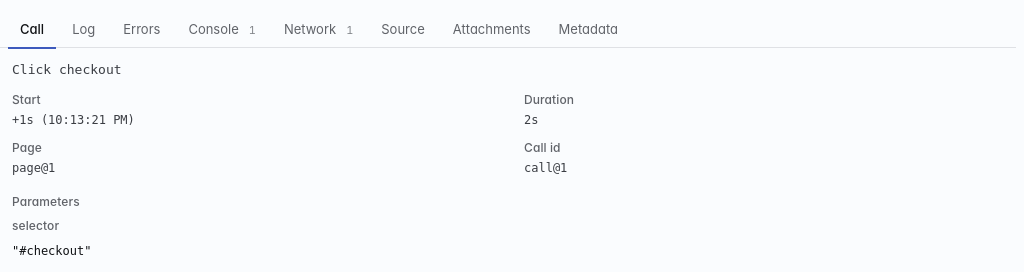
Scenario: DetailTabs — Log tab timeline selection › shows only log entries inside the selection window
Click the tab "Log": (84, 30) [60, 12, 107, 48]
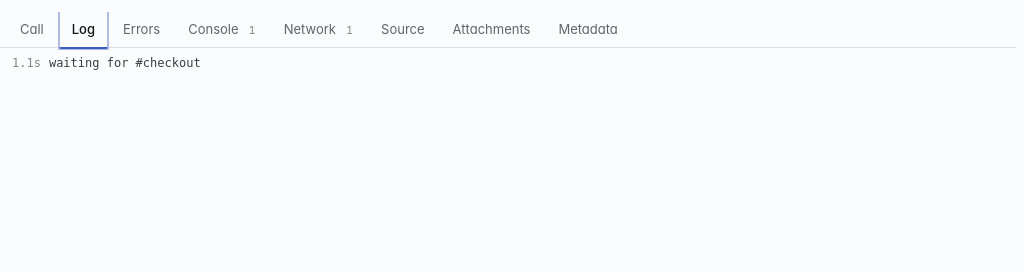
Expected: the text "waiting for #checkout" is shown, [49, 56, 201, 70]
